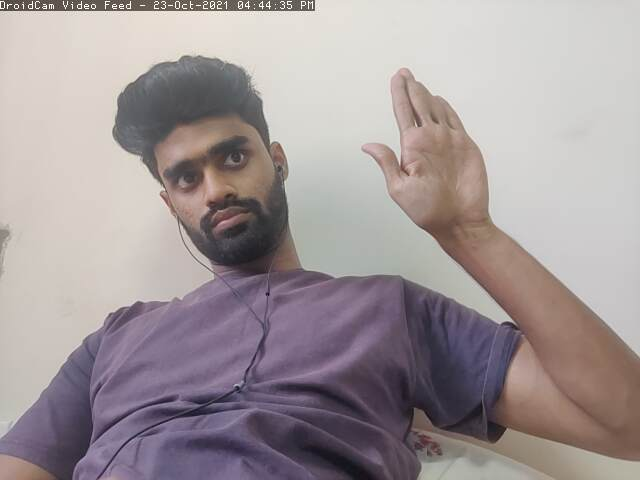Stop: (363, 63, 507, 231)
